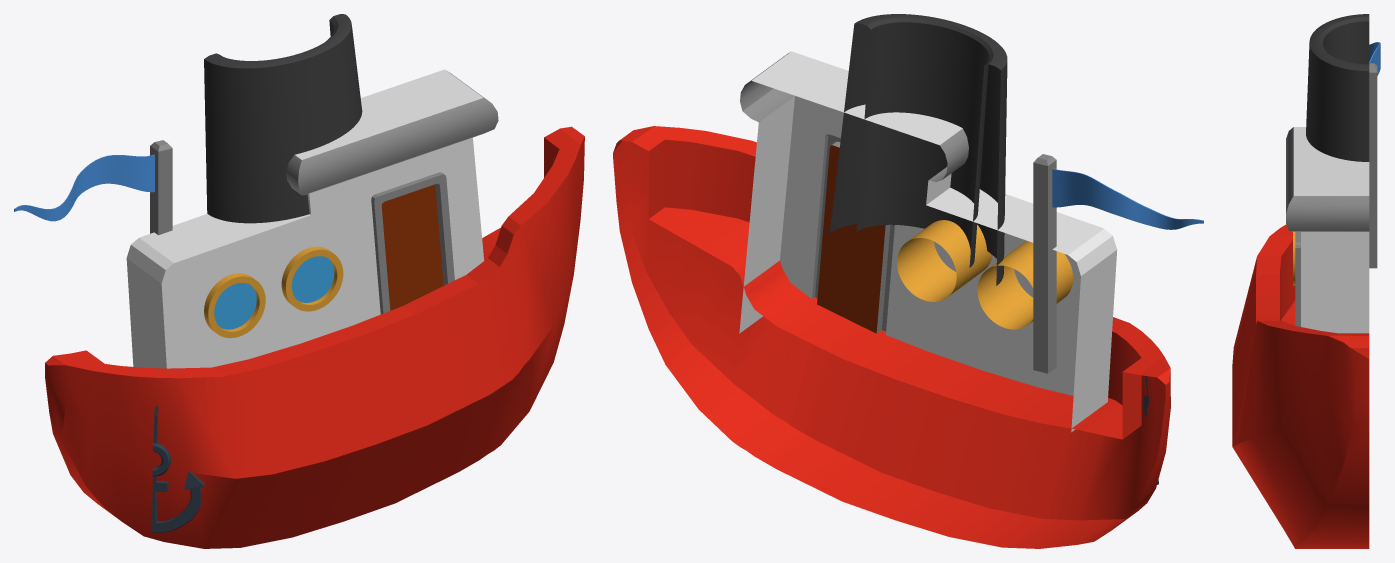
File: ship.gltf
3 views of the same model, side by side, from view 1: azimuth 30°, elevation 25°; view 2: azimuth 150°, elevation 25°; view 3: azimuth 270°, elevation 25° (orthographic). The views are drawn at different scales.
Parts seen in each view (by area): view 1: hull, cabin, chimney, flag, anchor, flagpole; view 2: hull, cabin, chimney, flagpole, flag; view 3: hull, cabin, chimney, flagpole, flag.
Part boxes in pixels (box(x1,y1,x2,y2)): hull: box(45, 126, 584, 548); cabin: box(126, 69, 498, 368); chimney: box(204, 14, 362, 223); flag: box(14, 154, 154, 221); anchor: box(151, 406, 204, 532); flagpole: box(150, 140, 172, 235); hull: box(613, 126, 1170, 548); cabin: box(739, 51, 1117, 432); chimney: box(830, 14, 1007, 285); flagpole: box(1033, 154, 1056, 373); flag: box(1052, 168, 1203, 229); hull: box(1232, 224, 1369, 548); cabin: box(1286, 127, 1369, 333); chimney: box(1306, 14, 1369, 161); flagpole: box(1369, 63, 1377, 268); flag: box(1369, 42, 1380, 75).
Bounding box in the file's own units: 7.34 × 5.87 × 1.71.
